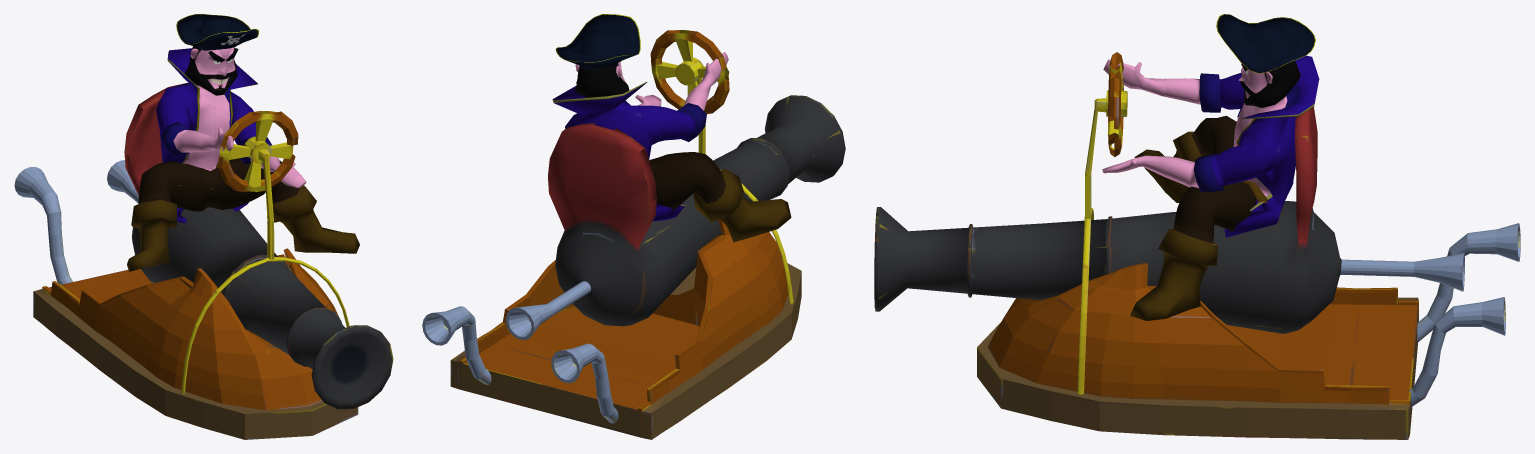
File: pirataGiroDER_000521.obj
The picture shows the model from 3 angles, left to right: view 1: azimuth 30°, elevation 25°; view 2: azimuth 150°, elevation 25°; view 3: azimuth 270°, elevation 25°; orthographic projection. The views are drawn at different scales.
Parts seen in each view (by area): view 1: carro_pirata, Pirata_PirataH; view 2: carro_pirata, Pirata_PirataH; view 3: carro_pirata, Pirata_PirataH.
Part boxes in pixels (left/top/right/bottom): carro_pirata: left=14, top=82, right=393, bottom=439; Pirata_PirataH: left=127, top=14, right=359, bottom=271; carro_pirata: left=422, top=30, right=845, bottom=439; Pirata_PirataH: left=552, top=14, right=791, bottom=242; carro_pirata: left=874, top=52, right=1520, bottom=439; Pirata_PirataH: left=1102, top=14, right=1319, bottom=320.
Size of the model in its own units: 5.69 by 7.67 by 12.1.
Materials: 2 (2 with a texture image).
